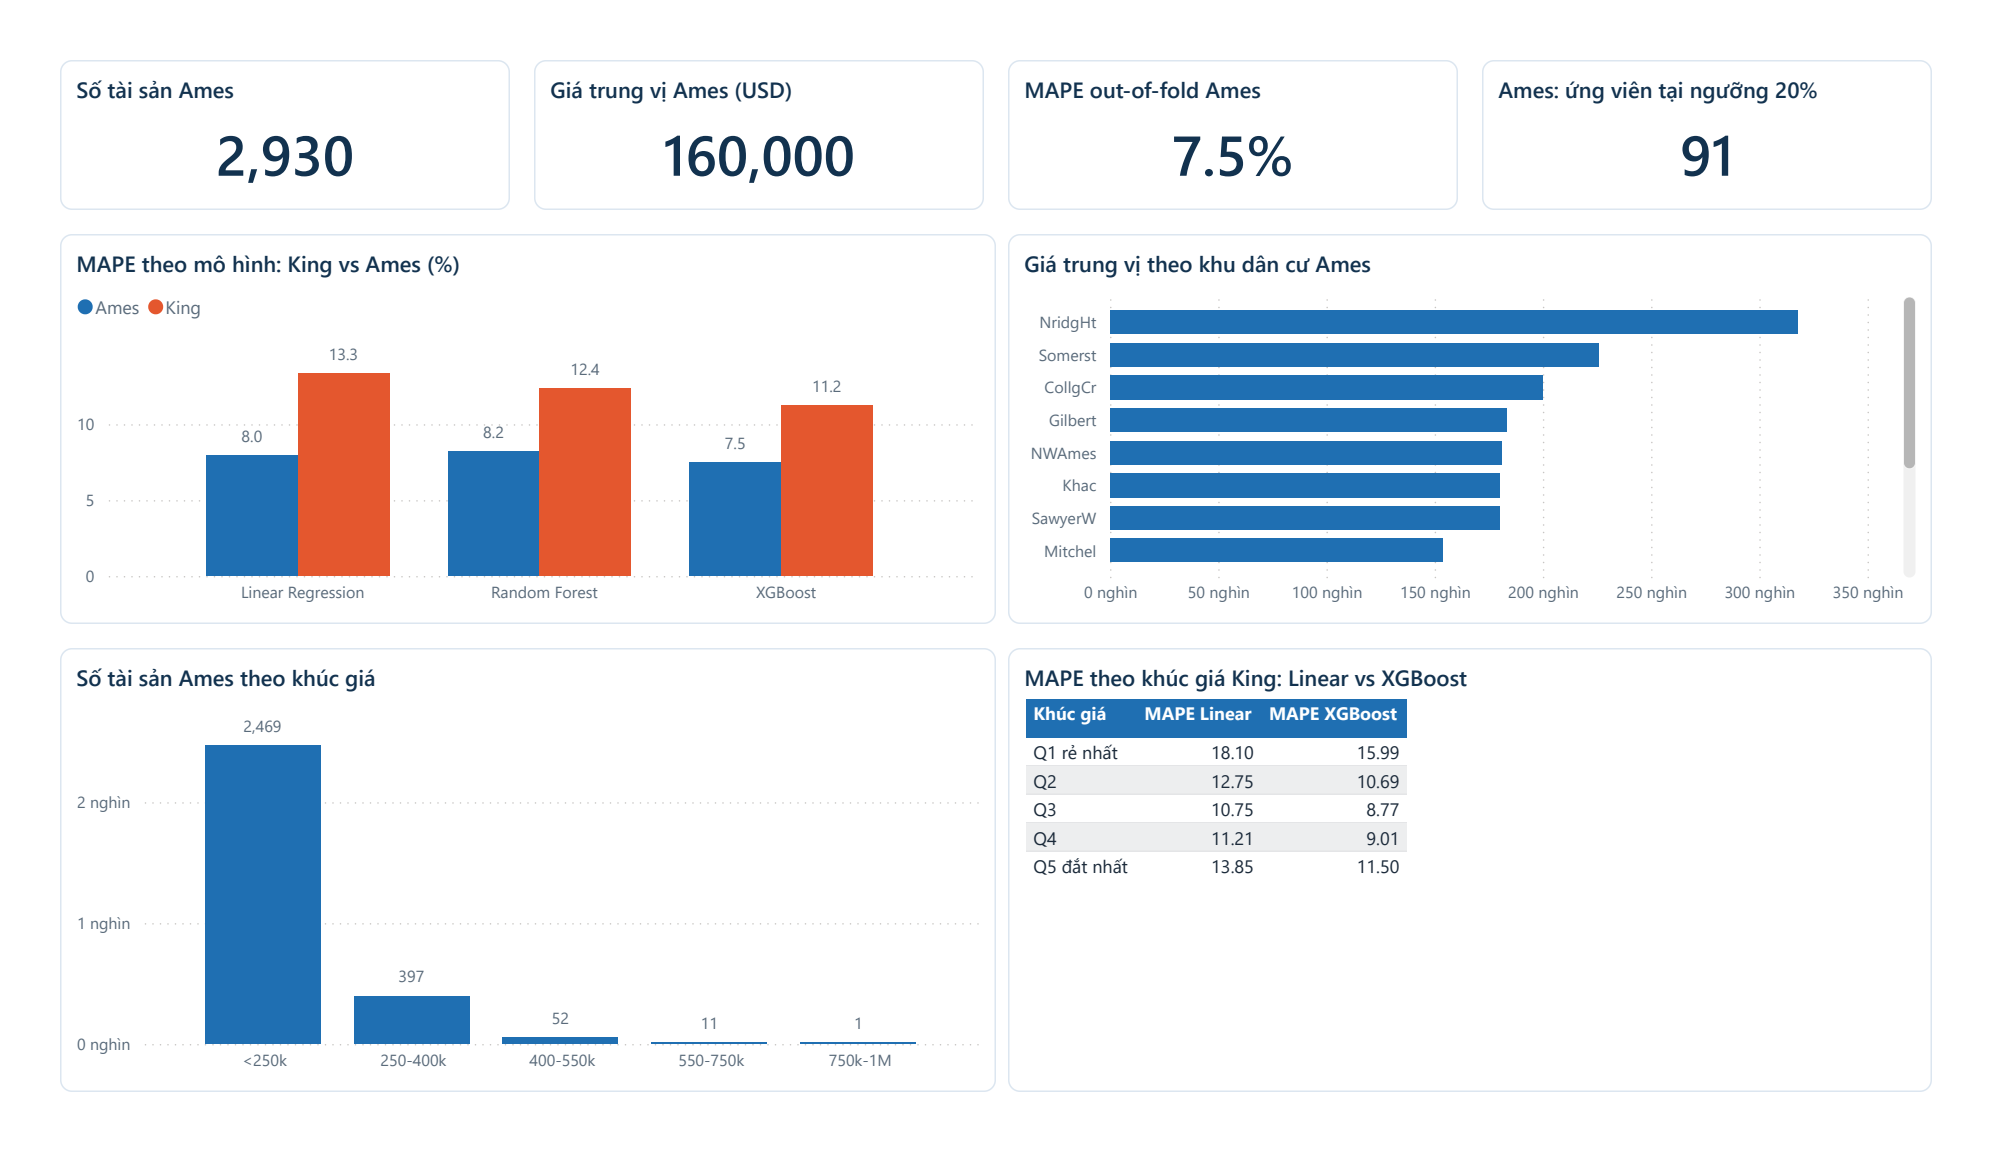

Layout of this report page (visuals, bound fields, positions):
{"tool":"powerbi","page":{"name":"5. Kiểm chứng bằng Ames","canvas":[1280,720],"ordinal":4},"visuals":[{"type":"card","title":"Số tài sản Ames","fields":{"Values":["KPI.AmesProperties Text"]},"box":[16,16,300,100],"z":1},{"type":"card","title":"Giá trung vị Ames (USD)","fields":{"Values":["KPI.AmesMedian Text"]},"box":[332,16,300,100],"z":1},{"type":"card","title":"MAPE out-of-fold Ames","fields":{"Values":["KPI.Ames OOF MAPE"]},"box":[648,16,300,100],"z":1},{"type":"card","title":"Ames: ứng viên tại ngưỡng 20%","fields":{"Values":["KPI.AmesCandidates Text"]},"box":[964,16,300,100],"z":1},{"type":"clusteredColumnChart","title":"MAPE theo mô hình: King vs Ames (%)","fields":{"Category":["ModelCompare.Mô hình"],"Series":["ModelCompare.Thị trường"],"Y":["KPI.MAPE (%)"]},"box":[16,132,624,260],"z":1},{"type":"barChart","title":"Giá trung vị theo khu dân cư Ames","fields":{"Category":["AmesSales.Khu dân cư tiêu biểu"],"Y":["KPI.Giá trung vị Ames"]},"box":[648,132,616,260],"z":1},{"type":"clusteredColumnChart","title":"Số tài sản Ames theo khúc giá","fields":{"Category":["AmesSales.Khúc giá"],"Y":["KPI.Số tài sản Ames"]},"box":[16,408,624,296],"z":1},{"type":"tableEx","title":"MAPE theo khúc giá King: Linear vs XGBoost","fields":{"Values":["SegmentCompare.Khúc giá","SegmentCompare.MAPE Linear","SegmentCompare.MAPE XGBoost"]},"box":[648,408,616,296],"z":1}]}

Visuals, with their boxes in screenshot pixels (x1, y1, x2, y2), scaled from the page's 1280x720 canvas onto the 1992x1152 screenshot:
"Số tài sản Ames" card: 25, 26, 492, 186
"Giá trung vị Ames (USD)" card: 517, 26, 984, 186
"MAPE out-of-fold Ames" card: 1008, 26, 1475, 186
"Ames: ứng viên tại ngưỡng 20%" card: 1500, 26, 1967, 186
"MAPE theo mô hình: King vs Ames (%)" clusteredColumnChart: 25, 211, 996, 627
"Giá trung vị theo khu dân cư Ames" barChart: 1008, 211, 1967, 627
"Số tài sản Ames theo khúc giá" clusteredColumnChart: 25, 653, 996, 1126
"MAPE theo khúc giá King: Linear vs XGBoost" tableEx: 1008, 653, 1967, 1126
